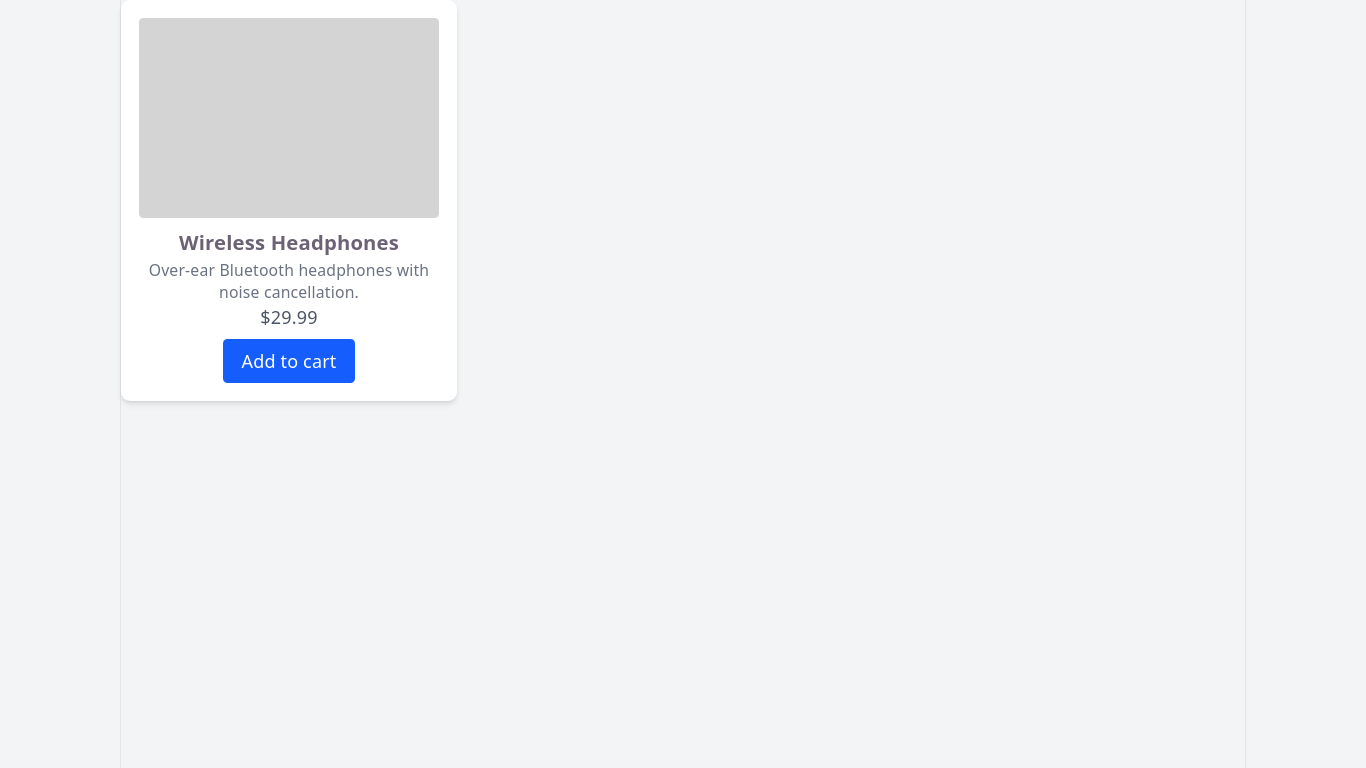
ProductCard › added feedback › restarts the 1.5 seconds when clicked again during the transition
This screenshot has width=1366, height=768.
Later steps or results of the test are not shown.
Click the button "Add to cart": coordinates (289, 361) [224,339,354,383]
Wait 1000 ms
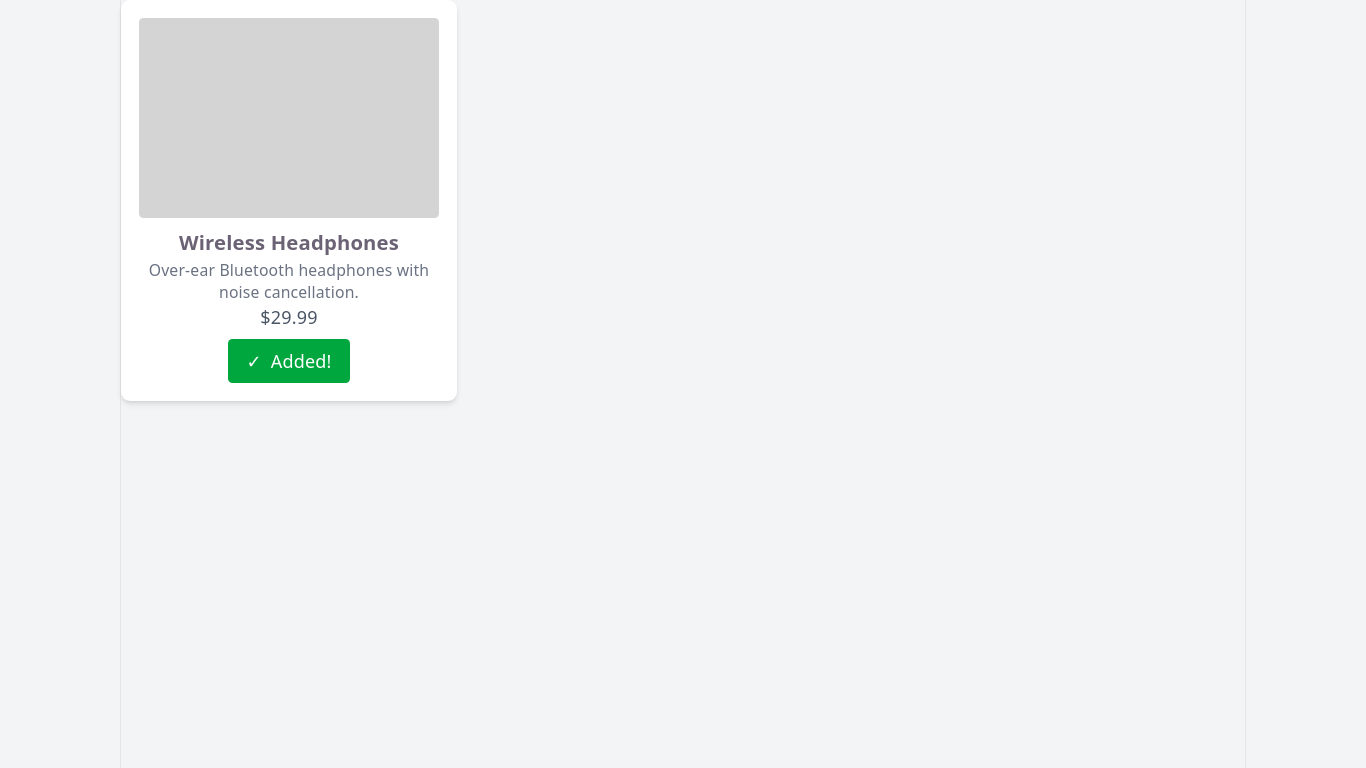
Click the button named "add to cart": coordinates (289, 361) [228,339,350,383]
Wait 1500 ms
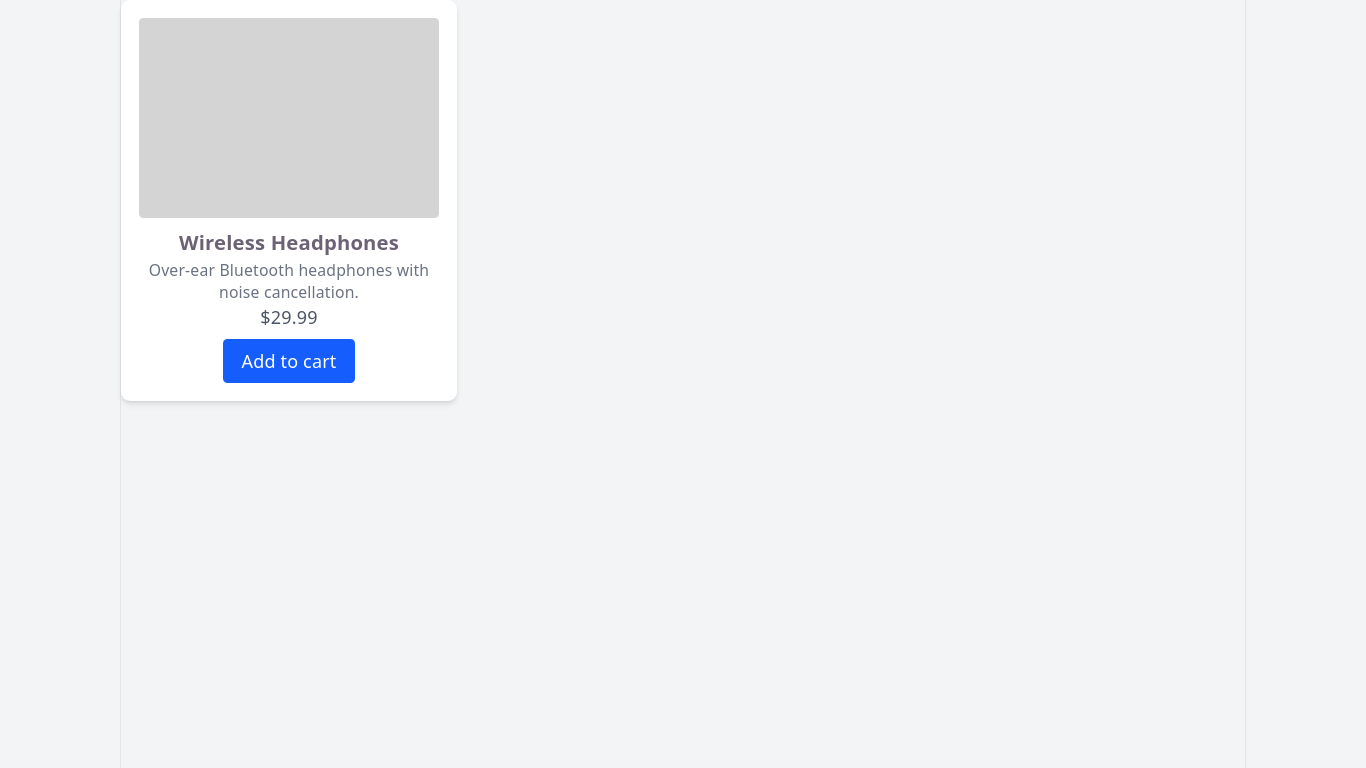
Check: the button "Add to cart" is shown, box [224,339,354,383]
